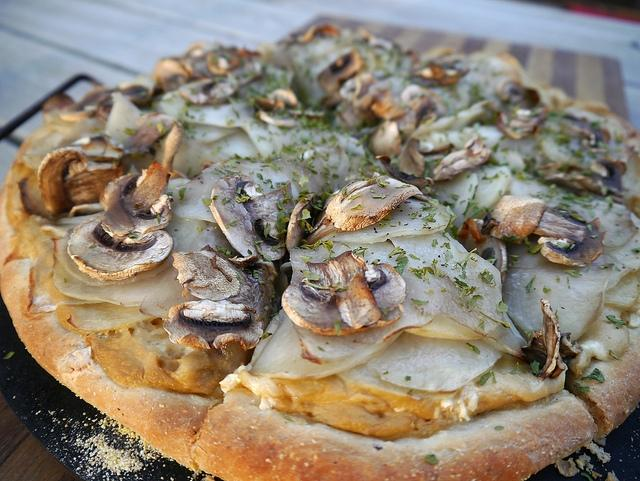mushroom: (282, 250, 406, 336), (303, 172, 423, 244), (210, 174, 296, 262), (68, 216, 174, 281), (163, 298, 263, 351), (533, 207, 607, 268), (118, 162, 174, 234), (521, 298, 566, 380), (172, 250, 240, 301), (464, 218, 508, 288), (428, 136, 492, 182), (490, 196, 548, 244), (375, 144, 434, 190), (568, 156, 631, 198), (64, 162, 124, 206), (59, 85, 122, 122), (318, 50, 364, 94), (408, 59, 469, 87), (496, 110, 548, 140), (368, 120, 402, 158), (562, 115, 602, 147), (153, 59, 190, 93), (504, 82, 540, 109), (370, 96, 409, 120), (206, 51, 242, 77), (410, 97, 430, 130), (254, 98, 284, 113)
